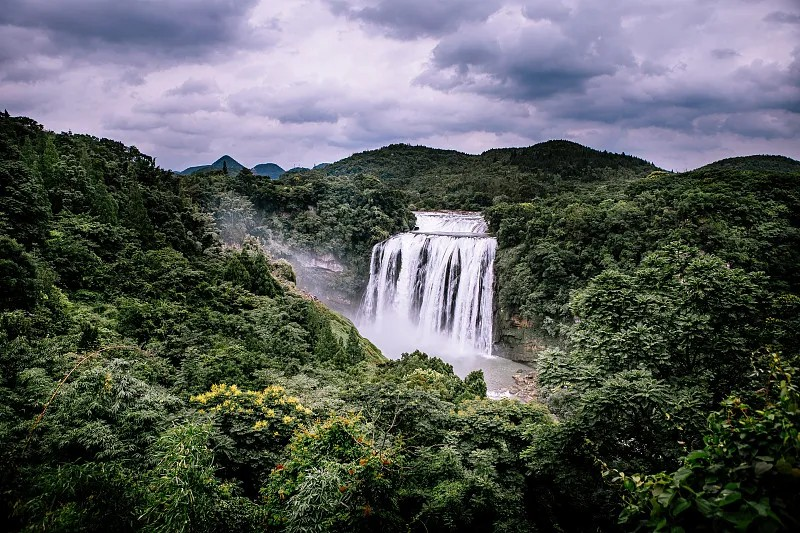Huangguoshu: (365, 208, 493, 358)
